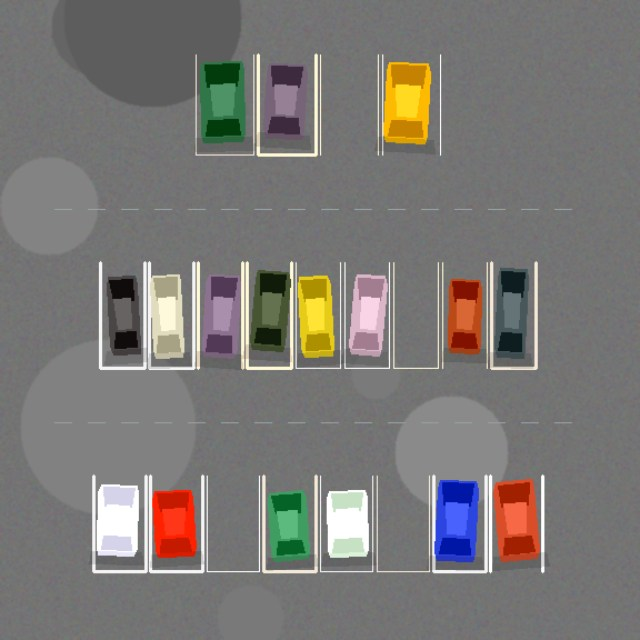space-empty: (320, 54, 378, 154), (207, 476, 259, 571), (377, 476, 429, 571), (393, 262, 438, 368)
space-occupied: (258, 54, 316, 154), (382, 54, 440, 154), (196, 54, 253, 154), (93, 476, 146, 571), (263, 476, 316, 571), (433, 476, 486, 571), (150, 476, 202, 571), (320, 476, 372, 571), (490, 476, 542, 571), (344, 262, 389, 368), (442, 262, 487, 368), (491, 262, 536, 368), (100, 262, 144, 368), (149, 262, 193, 368), (198, 262, 242, 368), (247, 262, 291, 368), (296, 262, 340, 368)
